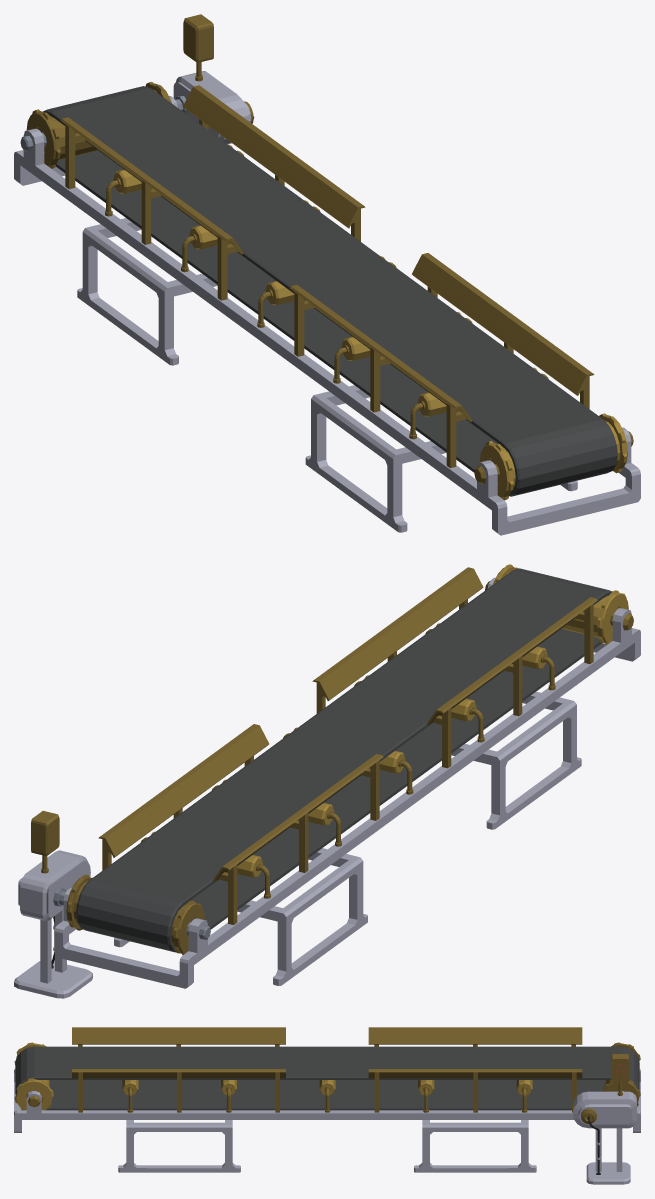
The model's file is Cube_007_factory-conveyer.fbx.
3 renders of one model, top to bottom at view 1: azimuth 30°, elevation 25°; view 2: azimuth 150°, elevation 25°; view 3: azimuth 270°, elevation 25°, orthographic. The views are drawn at different scales.
Visible parts, largest first — view 1: Cube.007.factory-conveyer; view 2: Cube.007.factory-conveyer; view 3: Cube.007.factory-conveyer.
Boxes of the visible parts, x1=… form: Cube.007.factory-conveyer: x1=14, y1=14, x2=640, y2=535; Cube.007.factory-conveyer: x1=14, y1=564, x2=640, y2=998; Cube.007.factory-conveyer: x1=14, y1=1027, x2=640, y2=1184.
Bounding box in the file's own units: 1.66 × 1.33 × 6.36.
